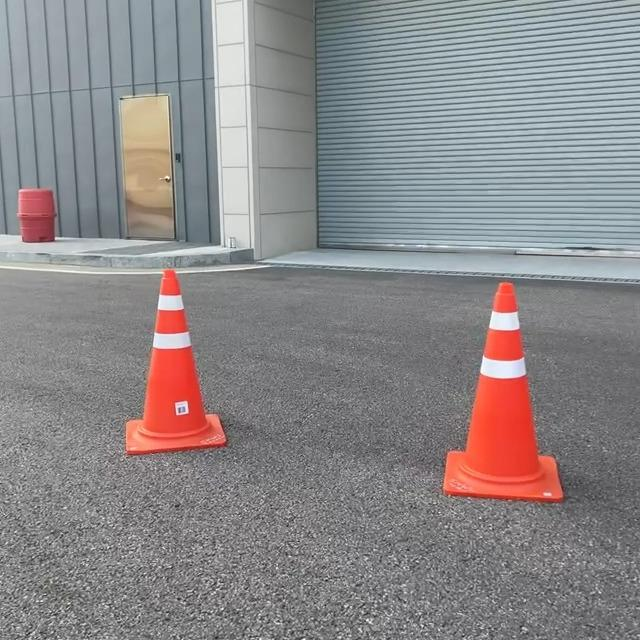fallen_object: (413, 260, 590, 508), (115, 250, 232, 488)
